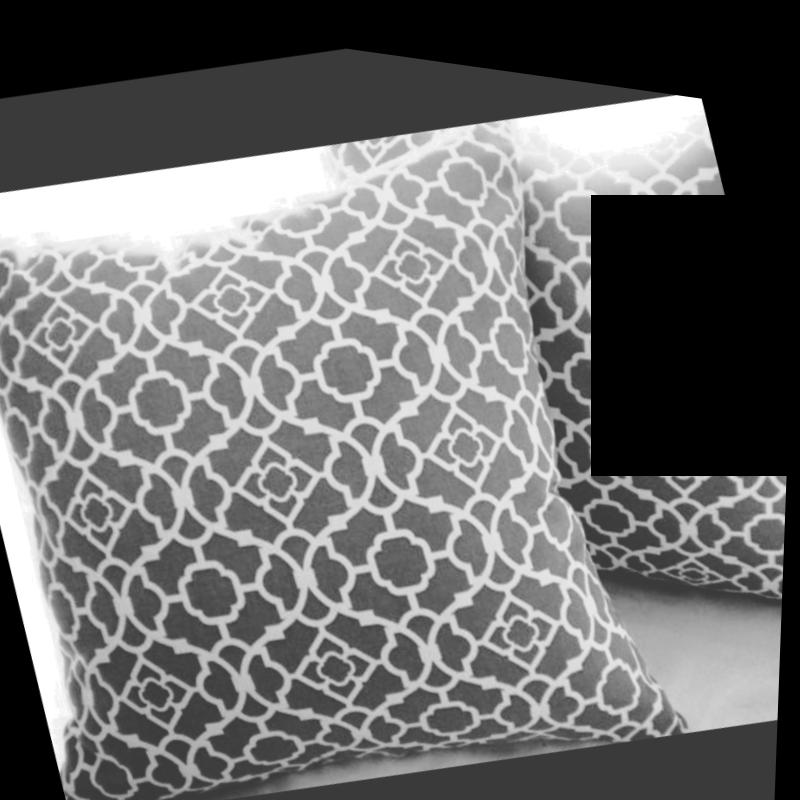pillow: (0, 39, 709, 800), (304, 36, 800, 697)
